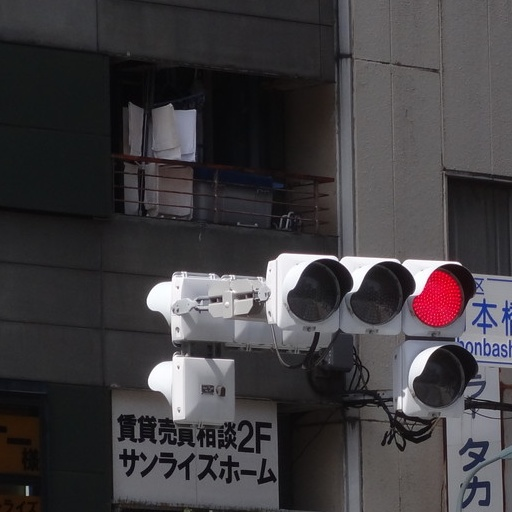Traffic_Signal_Red: (284, 255, 469, 333)
